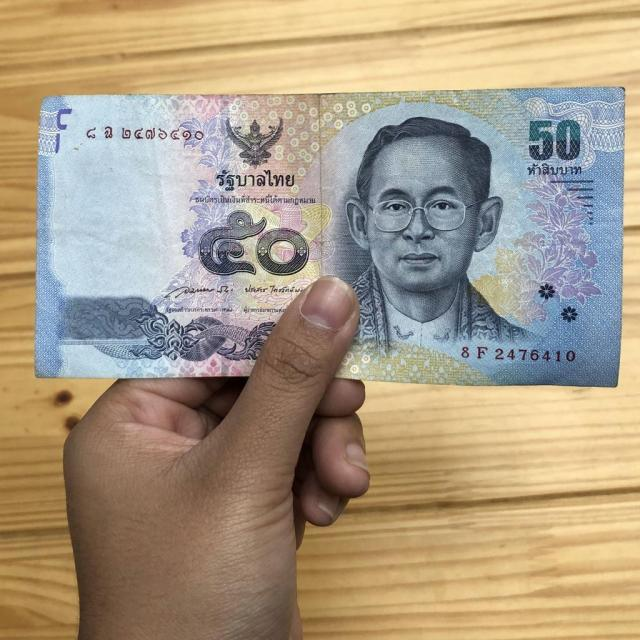THAI50: (34, 86, 627, 388)
